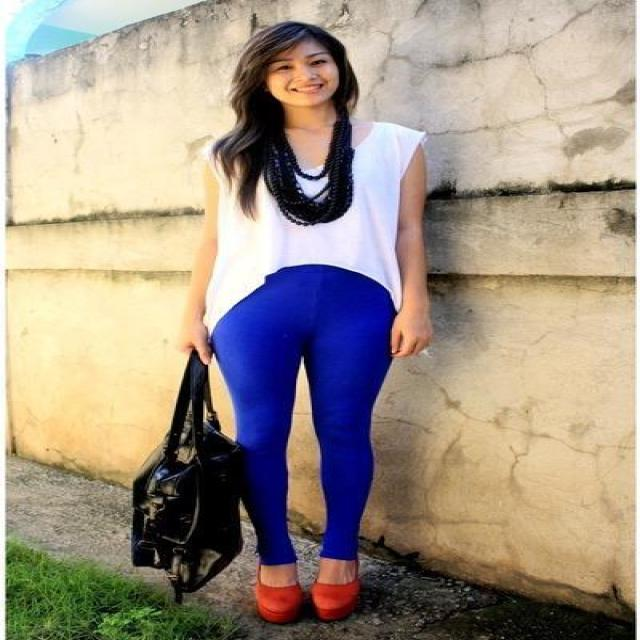bag: (131, 328, 248, 600)
pants: (211, 265, 397, 564)
shirt: (203, 148, 414, 333)
shoe: (256, 579, 357, 627)
